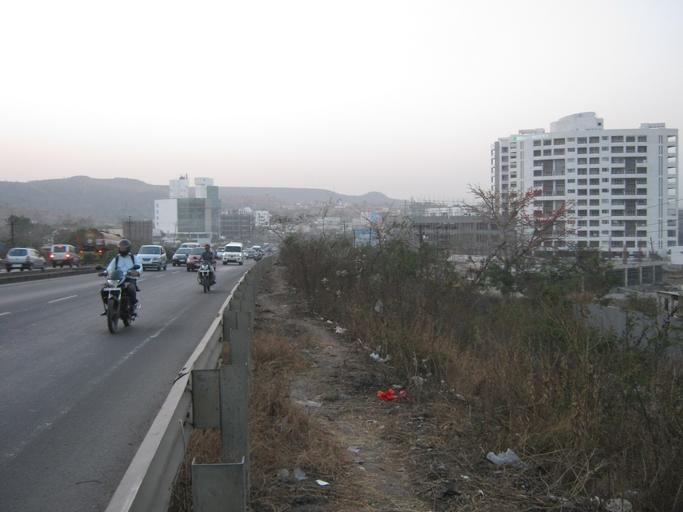non-vehicle: (94, 264, 142, 333), (196, 259, 216, 293)
